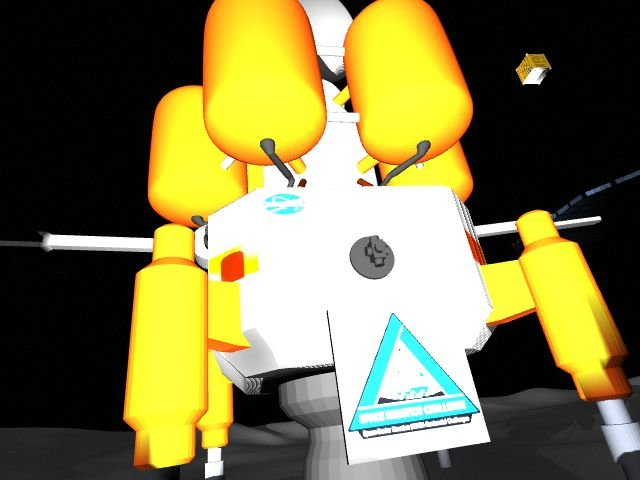basemarker: (348, 311, 480, 440)
